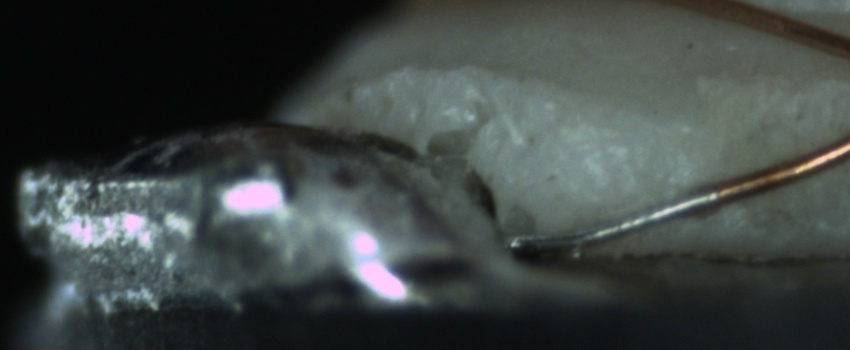TS: (507, 189, 715, 250)
